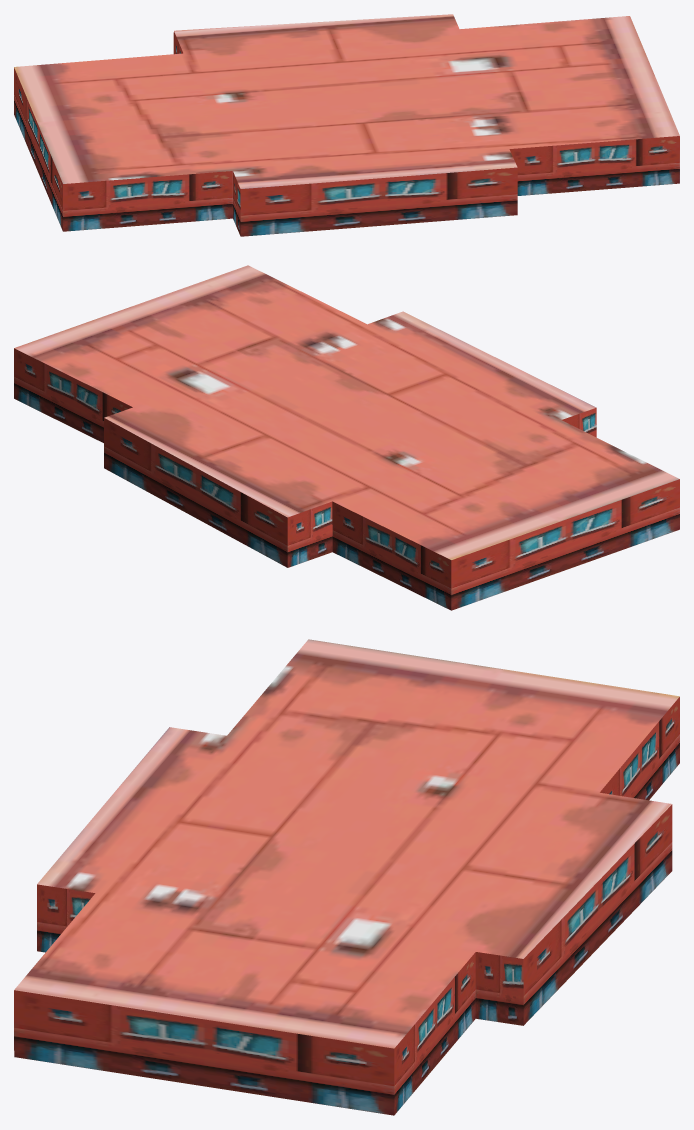
File: Building_Architecture.fbx
3 views of the same model, one above another, from view 1: azimuth 30°, elevation 25°; view 2: azimuth 150°, elevation 25°; view 3: azimuth 270°, elevation 25° (orthographic). The views are drawn at different scales.
Parts seen in each view (by area): view 1: UCSection; view 2: UCSection; view 3: UCSection.
Part boxes in pixels (x1=…): UCSection: x1=14, y1=14, x2=679, y2=236; UCSection: x1=14, y1=265, x2=679, y2=610; UCSection: x1=14, y1=639, x2=679, y2=1115.
Bounding box in the file's own units: 9929 × 760 × 6825.
